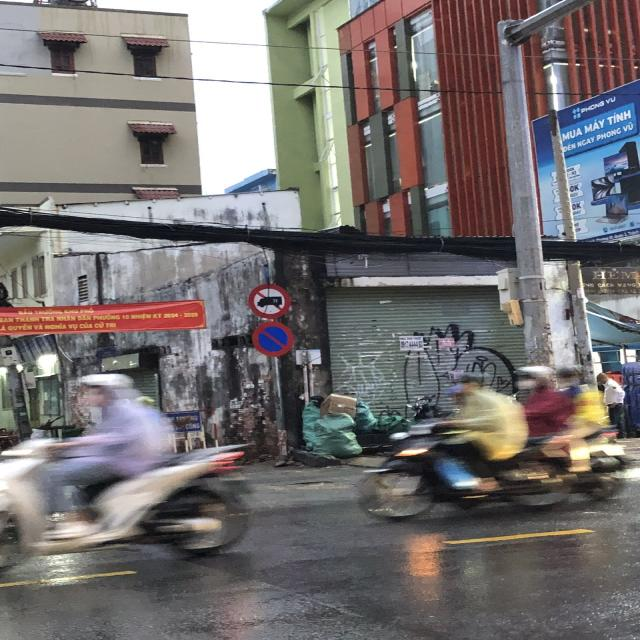Bien bao cam do xe: (247, 320, 298, 361)
Bien bao cam xe oto tai: (244, 281, 294, 321)
